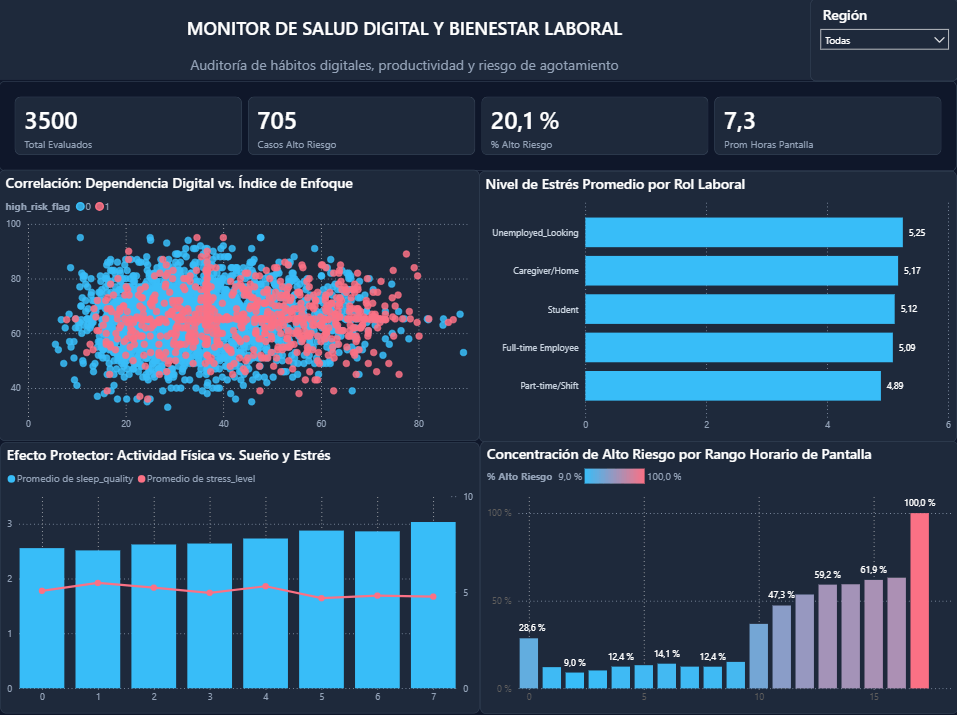

This screenshot's page, from the dashboard's own definition file:
{"tool":"powerbi","page":{"name":"Página 1","canvas":[1280,1000],"ordinal":0},"visuals":[{"type":"shape","box":[0,0,1280.2,111.9],"z":0},{"type":"textbox","box":[0,21.2,1081.2,47.5],"z":1000},{"type":"textbox","box":[0,72.5,1081.2,40],"z":2000},{"type":"cardVisual","fields":{"Data":["_Medidas.Total Evaluados","_Medidas.Casos Alto Riesgo","_Medidas.% Alto Riesgo","_Medidas.Prom Horas Pantalla"]},"box":[0,112.5,1278.8,120],"z":3000},{"type":"scatterChart","title":"Correlación: Dependencia Digital vs. Índice de Enfoque","fields":{"Category":["Salud y Bienestar.id"],"Series":["Salud y Bienestar.high_risk_flag"],"X":["Avg(Salud y Bienestar.digital_dependence_score)"],"Y":["Avg(Salud y Bienestar.productivity_score)"]},"box":[0,232.4,640.7,361.6],"z":4000},{"type":"clusteredBarChart","title":"Nivel de Estrés Promedio por Rol Laboral","fields":{"Category":["Salud y Bienestar.daily_role"],"Y":["Avg(Salud y Bienestar.stress_level)"]},"box":[640,232.5,638.8,361.2],"z":5000},{"type":"lineClusteredColumnComboChart","title":"Efecto Protector: Actividad Física vs. Sueño y Estrés","fields":{"Category":["Salud y Bienestar.physical_activity_days"],"Y":["Avg(Salud y Bienestar.sleep_quality)"],"Y2":["Avg(Salud y Bienestar.stress_level)"]},"box":[2,595.2,639.4,361.9],"z":6000},{"type":"clusteredColumnChart","title":"Concentración de Alto Riesgo por Rango Horario de Pantalla","fields":{"Category":["Salud y Bienestar.device_time_range"],"Y":["_Medidas.% Alto Riesgo"]},"box":[641.2,593.8,638.8,363.8],"z":7000},{"type":"slicer","title":"Región","fields":{"Values":["Salud y Bienestar.region"]},"box":[1081.2,2.5,198.8,110],"z":8000}]}

Visuals, with their boxes on the page's 1280x1000 design canvas (x1, y1, x2, y2). These are canvas units, not pixel positions in the 957x715 screenshot, which may show the page scaled, cropped or inside an application window:
shape: detection(0, 0, 1280, 112)
textbox: detection(0, 21, 1081, 69)
textbox: detection(0, 72, 1081, 112)
cardVisual - _Medidas.Total Evaluados x _Medidas.Casos Alto Riesgo: detection(0, 112, 1279, 232)
"Correlación: Dependencia Digital vs. Índice de Enfoque" scatterChart: detection(0, 232, 641, 594)
"Nivel de Estrés Promedio por Rol Laboral" clusteredBarChart: detection(640, 232, 1279, 594)
"Efecto Protector: Actividad Física vs. Sueño y Estrés" lineClusteredColumnComboChart: detection(2, 595, 641, 957)
"Concentración de Alto Riesgo por Rango Horario de Pantalla" clusteredColumnChart: detection(641, 594, 1280, 958)
"Región" slicer: detection(1081, 2, 1280, 112)
